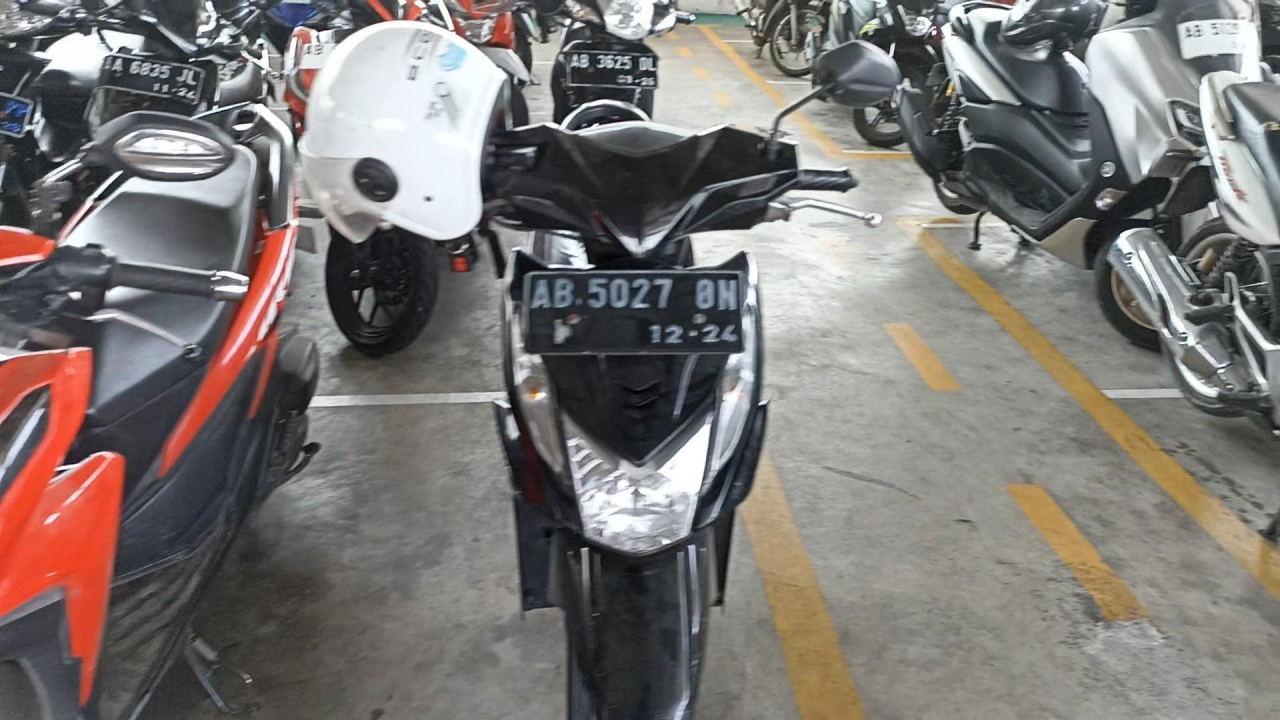plate: (524, 272, 746, 353), (97, 54, 204, 105), (568, 51, 658, 88)
